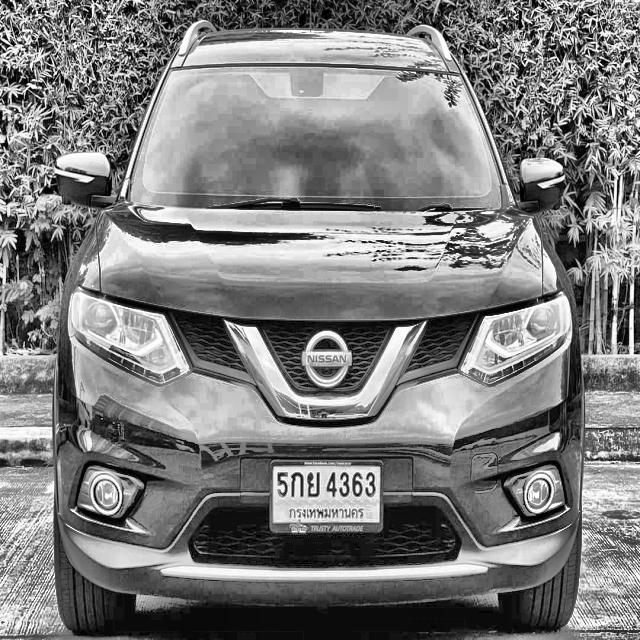license-plate: (268, 458, 384, 538)
